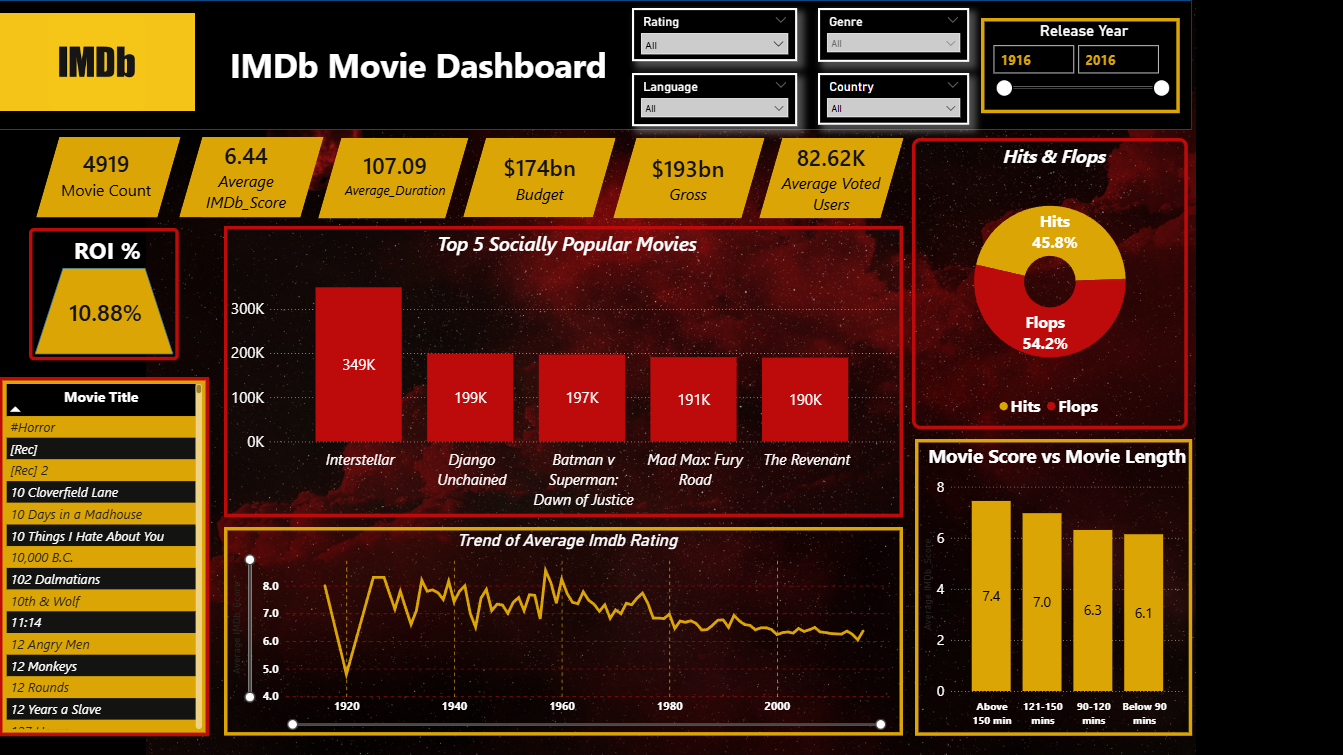

Layout of this report page (visuals, bound fields, positions):
{"tool":"powerbi","page":{"name":"Final","canvas":[1920,1080],"ordinal":0},"visuals":[{"type":"shape","box":[0,1.4,1704.3,185.7],"z":0},{"type":"image","box":[0,0,280,180],"z":1000},{"type":"textbox","box":[242,22,662,142],"z":2000},{"type":"shape","box":[53.3,196.7,206.7,115],"z":3000},{"type":"shape","box":[455,198.3,215,115],"z":4000},{"type":"shape","box":[256.7,196.7,206.7,115],"z":5000},{"type":"shape","box":[663.3,198.3,218.3,113.3],"z":6000},{"type":"shape","box":[876.7,198.3,216.7,115],"z":7000},{"type":"shape","box":[1085,198.3,206.7,115],"z":8000},{"type":"cardVisual","fields":{"Data":["Key Measures.Movie Count"]},"box":[50,175,206.7,150],"z":9000},{"type":"cardVisual","fields":{"Data":["Key Measures.Average IMDb_Score"]},"box":[250,176.7,206.7,150],"z":10000},{"type":"cardVisual","fields":{"Data":["Key Measures.Average_Duration"]},"box":[463.3,175,206.7,150],"z":11000},{"type":"cardVisual","fields":{"Data":["Key Measures.Tot_Budget"]},"box":[681.4,187.1,182.9,137.1],"z":12000},{"type":"cardVisual","fields":{"Data":["Key Measures.Gross"]},"box":[881.7,185,206.7,141.7],"z":13000},{"type":"cardVisual","fields":{"Data":["Key Measures.Average Voted Users"]},"box":[1085,180,206.7,150],"z":14000},{"type":"clusteredColumnChart","title":"Top 5 Socially Popular Movies","fields":{"Category":["movie_metadata.movie_title"],"Y":["Sum(movie_metadata.movie_facebook_likes)"]},"box":[322,324,970,416],"z":15000},{"type":"slicer","fields":{"Values":["movie_metadata.genres"]},"box":[1170,12.9,215.7,77.1],"z":16000},{"type":"slicer","title":"Release Year","fields":{"Values":["movie_metadata.title_year"]},"box":[1402.9,27.1,284.3,135.7],"z":17000},{"type":"slicer","fields":{"Values":["movie_metadata.country"]},"box":[1170,105.7,215.7,74.3],"z":18000},{"type":"slicer","fields":{"Values":["movie_metadata.language"]},"box":[904,106,236,76],"z":19000},{"type":"slicer","fields":{"Values":["movie_metadata.content_rating"]},"box":[904.3,12.9,235.7,75.7],"z":20000},{"type":"tableEx","fields":{"Values":["movie_metadata.movie_title"]},"box":[0,540,300,512.9],"z":21000},{"type":"donutChart","title":"Hits & Flops","fields":{"Y":["Key Measures.profitable_movies","Key Measures.lossmaking_movies"]},"box":[1304,198,394,416],"z":22000},{"type":"lineChart","title":"Trend of Average Imdb Rating","fields":{"Y":["Key Measures.avg_imdbscore"],"Category":["movie_metadata.title_year"]},"box":[322,754,970,298],"z":23000},{"type":"shape","title":"ROI %","box":[42.9,327.1,214.3,188.6],"z":24000},{"type":"cardVisual","fields":{"Data":["Key Measures.ROI"]},"box":[50,388.6,205.7,114.3],"z":25000},{"type":"clusteredColumnChart","title":"Movie Score vs Movie Length","fields":{"Category":["movie_metadata.duration_limit"],"Y":["Key Measures.avg_imdbscore"]},"box":[1308,628,396,424],"z":26000}]}

Visuals, with their boxes in screenshot pixels (x1, y1, x2, y2), scaled from the page's 1920x1080 canvas onto the 1343x755 screenshot:
shape: <box>0,1,1192,131</box>
image: <box>0,0,196,126</box>
textbox: <box>169,15,632,115</box>
shape: <box>37,138,182,218</box>
shape: <box>318,139,469,219</box>
shape: <box>180,138,324,218</box>
shape: <box>464,139,617,218</box>
shape: <box>613,139,765,219</box>
shape: <box>759,139,904,219</box>
cardVisual - Key Measures.Movie Count: <box>35,122,180,227</box>
cardVisual - Key Measures.Average IMDb_Score: <box>175,124,319,228</box>
cardVisual - Key Measures.Average_Duration: <box>324,122,469,227</box>
cardVisual - Key Measures.Tot_Budget: <box>477,131,605,227</box>
cardVisual - Key Measures.Gross: <box>617,129,761,228</box>
cardVisual - Key Measures.Average Voted Users: <box>759,126,904,231</box>
"Top 5 Socially Popular Movies" clusteredColumnChart: <box>225,226,904,517</box>
slicer - movie_metadata.genres: <box>818,9,969,63</box>
"Release Year" slicer: <box>981,19,1180,114</box>
slicer - movie_metadata.country: <box>818,74,969,126</box>
slicer - movie_metadata.language: <box>632,74,797,127</box>
slicer - movie_metadata.content_rating: <box>633,9,797,62</box>
tableEx - movie_metadata.movie_title: <box>0,378,210,736</box>
"Hits & Flops" donutChart: <box>912,138,1188,429</box>
"Trend of Average Imdb Rating" lineChart: <box>225,527,904,735</box>
"ROI %" shape: <box>30,229,180,361</box>
cardVisual - Key Measures.ROI: <box>35,272,179,352</box>
"Movie Score vs Movie Length" clusteredColumnChart: <box>915,439,1192,735</box>
